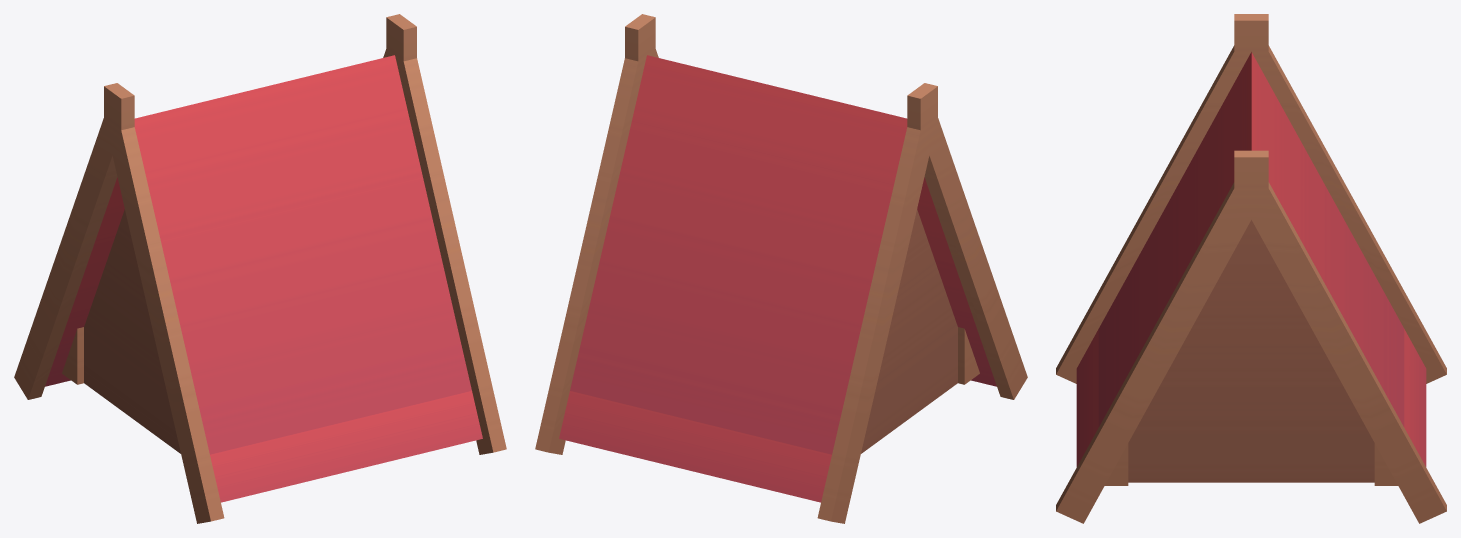
The model's file is roof-high-gable-detail.fbx.
The picture shows the model from 3 angles, left to right: view 1: azimuth 30°, elevation 25°; view 2: azimuth 150°, elevation 25°; view 3: azimuth 270°, elevation 25°; orthographic projection.
Parts seen in each view (by area): view 1: roof-high-gable-detail; view 2: roof-high-gable-detail; view 3: roof-high-gable-detail.
Boxes of the visible parts, x1,y1,x2,y2 form: roof-high-gable-detail: [14, 14, 506, 523]; roof-high-gable-detail: [535, 14, 1027, 523]; roof-high-gable-detail: [1056, 14, 1446, 523].
Bounding box in the file's own units: 110 × 131 × 127.
1 material, 1 textured.
